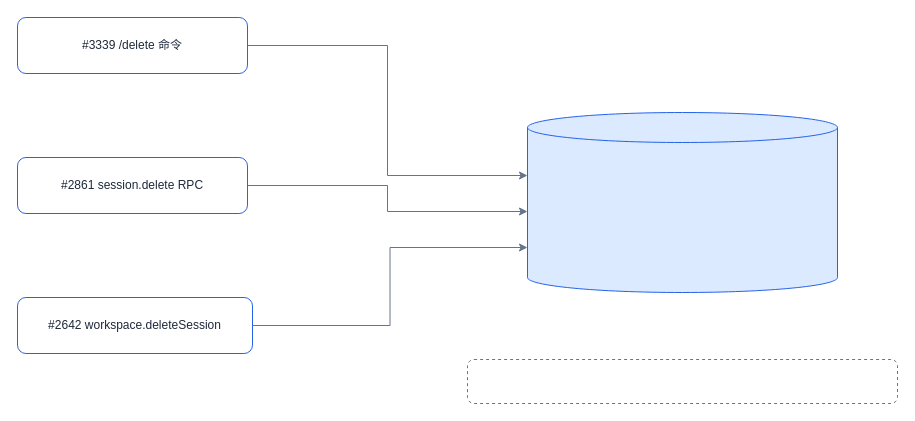
This 915x421 diagram has some shape labels left out. Each missing label, with the box of its shape:
append-only 会话日志 （唯一真源 · 不可删）: (526, 112, 838, 292)
来源：deepseek-harness GitHub Discussions 实测抓取: (466, 358, 898, 404)
